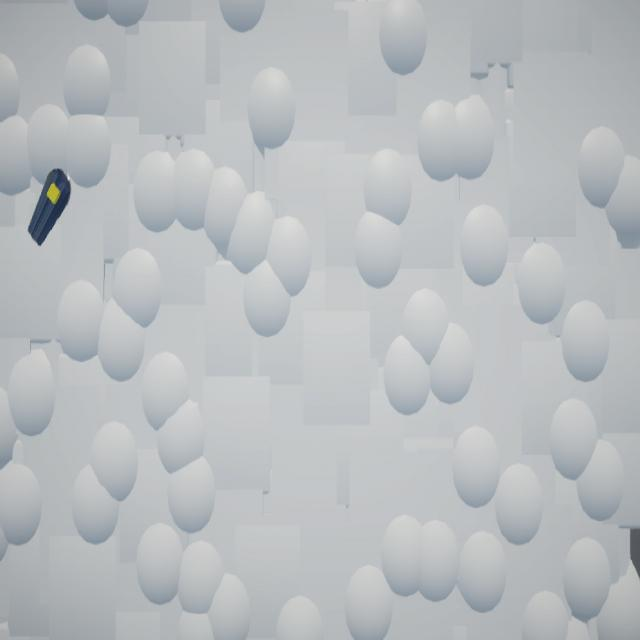handle_folk: (28, 169, 72, 249)
